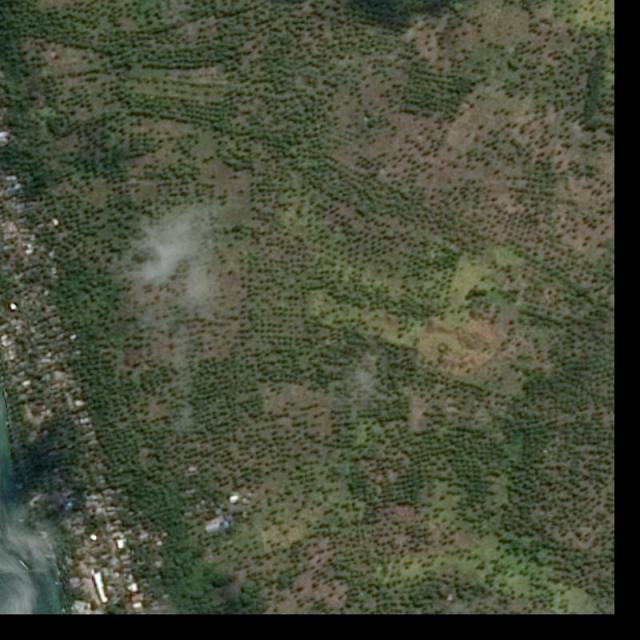ship: (18, 560, 30, 572)
